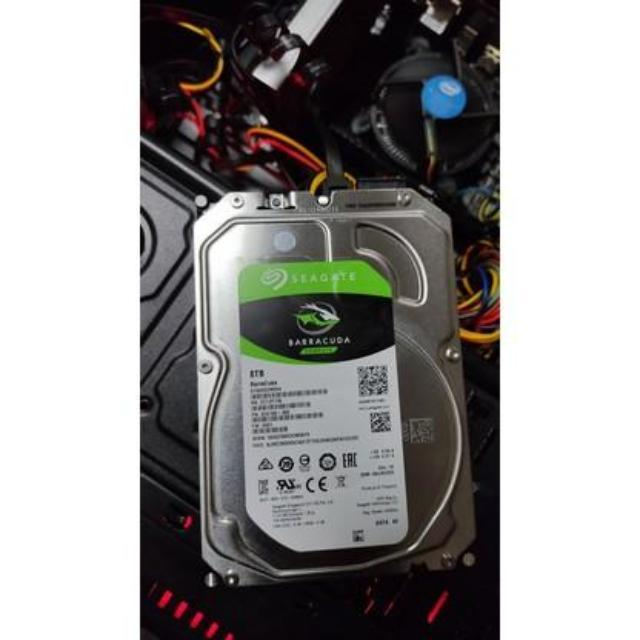DISK: (186, 183, 468, 583)
